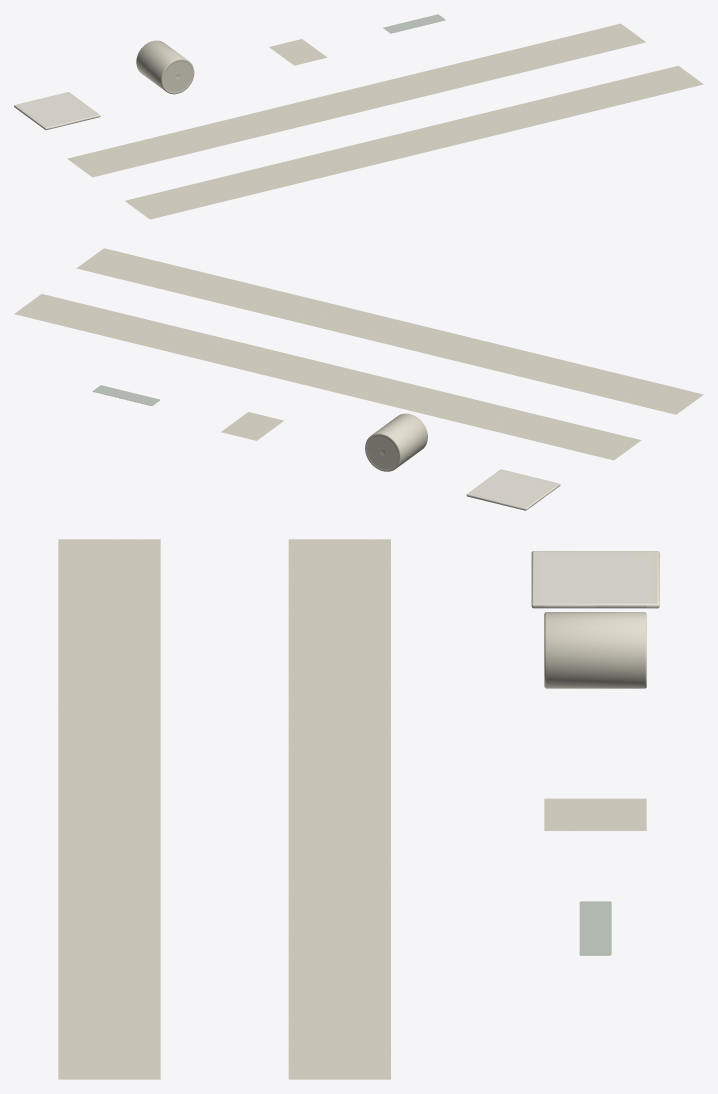
The model's file is PressureBandage_Basic.fbx.
3 renders of one model, top to bottom at view 1: azimuth 30°, elevation 25°; view 2: azimuth 150°, elevation 25°; view 3: azimuth 270°, elevation 25°, orthographic. The views are drawn at different scales.
Visible parts, largest first — view 1: PB_WrapStrip, PB_BandageStrip, PB_BandageRoll, PB_DressingPad, PB_BandageEnd, PB_FixingTape; view 2: PB_BandageStrip, PB_WrapStrip, PB_BandageRoll, PB_DressingPad, PB_BandageEnd, PB_FixingTape; view 3: PB_BandageStrip, PB_WrapStrip, PB_BandageRoll, PB_DressingPad, PB_BandageEnd, PB_FixingTape.
Part boxes in pixels (x1,y1,x2,y2): PB_WrapStrip: (125,65,703,219); PB_BandageStrip: (67,23,645,177); PB_BandageRoll: (136,40,194,94); PB_DressingPad: (14,92,100,130); PB_BandageEnd: (269,39,326,65); PB_FixingTape: (383,14,445,33); PB_BandageStrip: (14,294,641,460); PB_WrapStrip: (76,248,703,414); PB_BandageRoll: (365,413,427,471); PB_DressingPad: (466,469,560,510); PB_BandageEnd: (221,412,283,440); PB_FixingTape: (92,385,159,405); PB_BandageStrip: (288,539,390,1079); PB_WrapStrip: (58,539,160,1079); PB_BandageRoll: (544,612,646,688); PB_DressingPad: (531,551,659,608); PB_BandageEnd: (544,798,646,830); PB_FixingTape: (579,901,611,955).
Bounding box in the file's own units: 1 × 0.062 × 0.47.
Materials: 3 (3 with a texture image).
